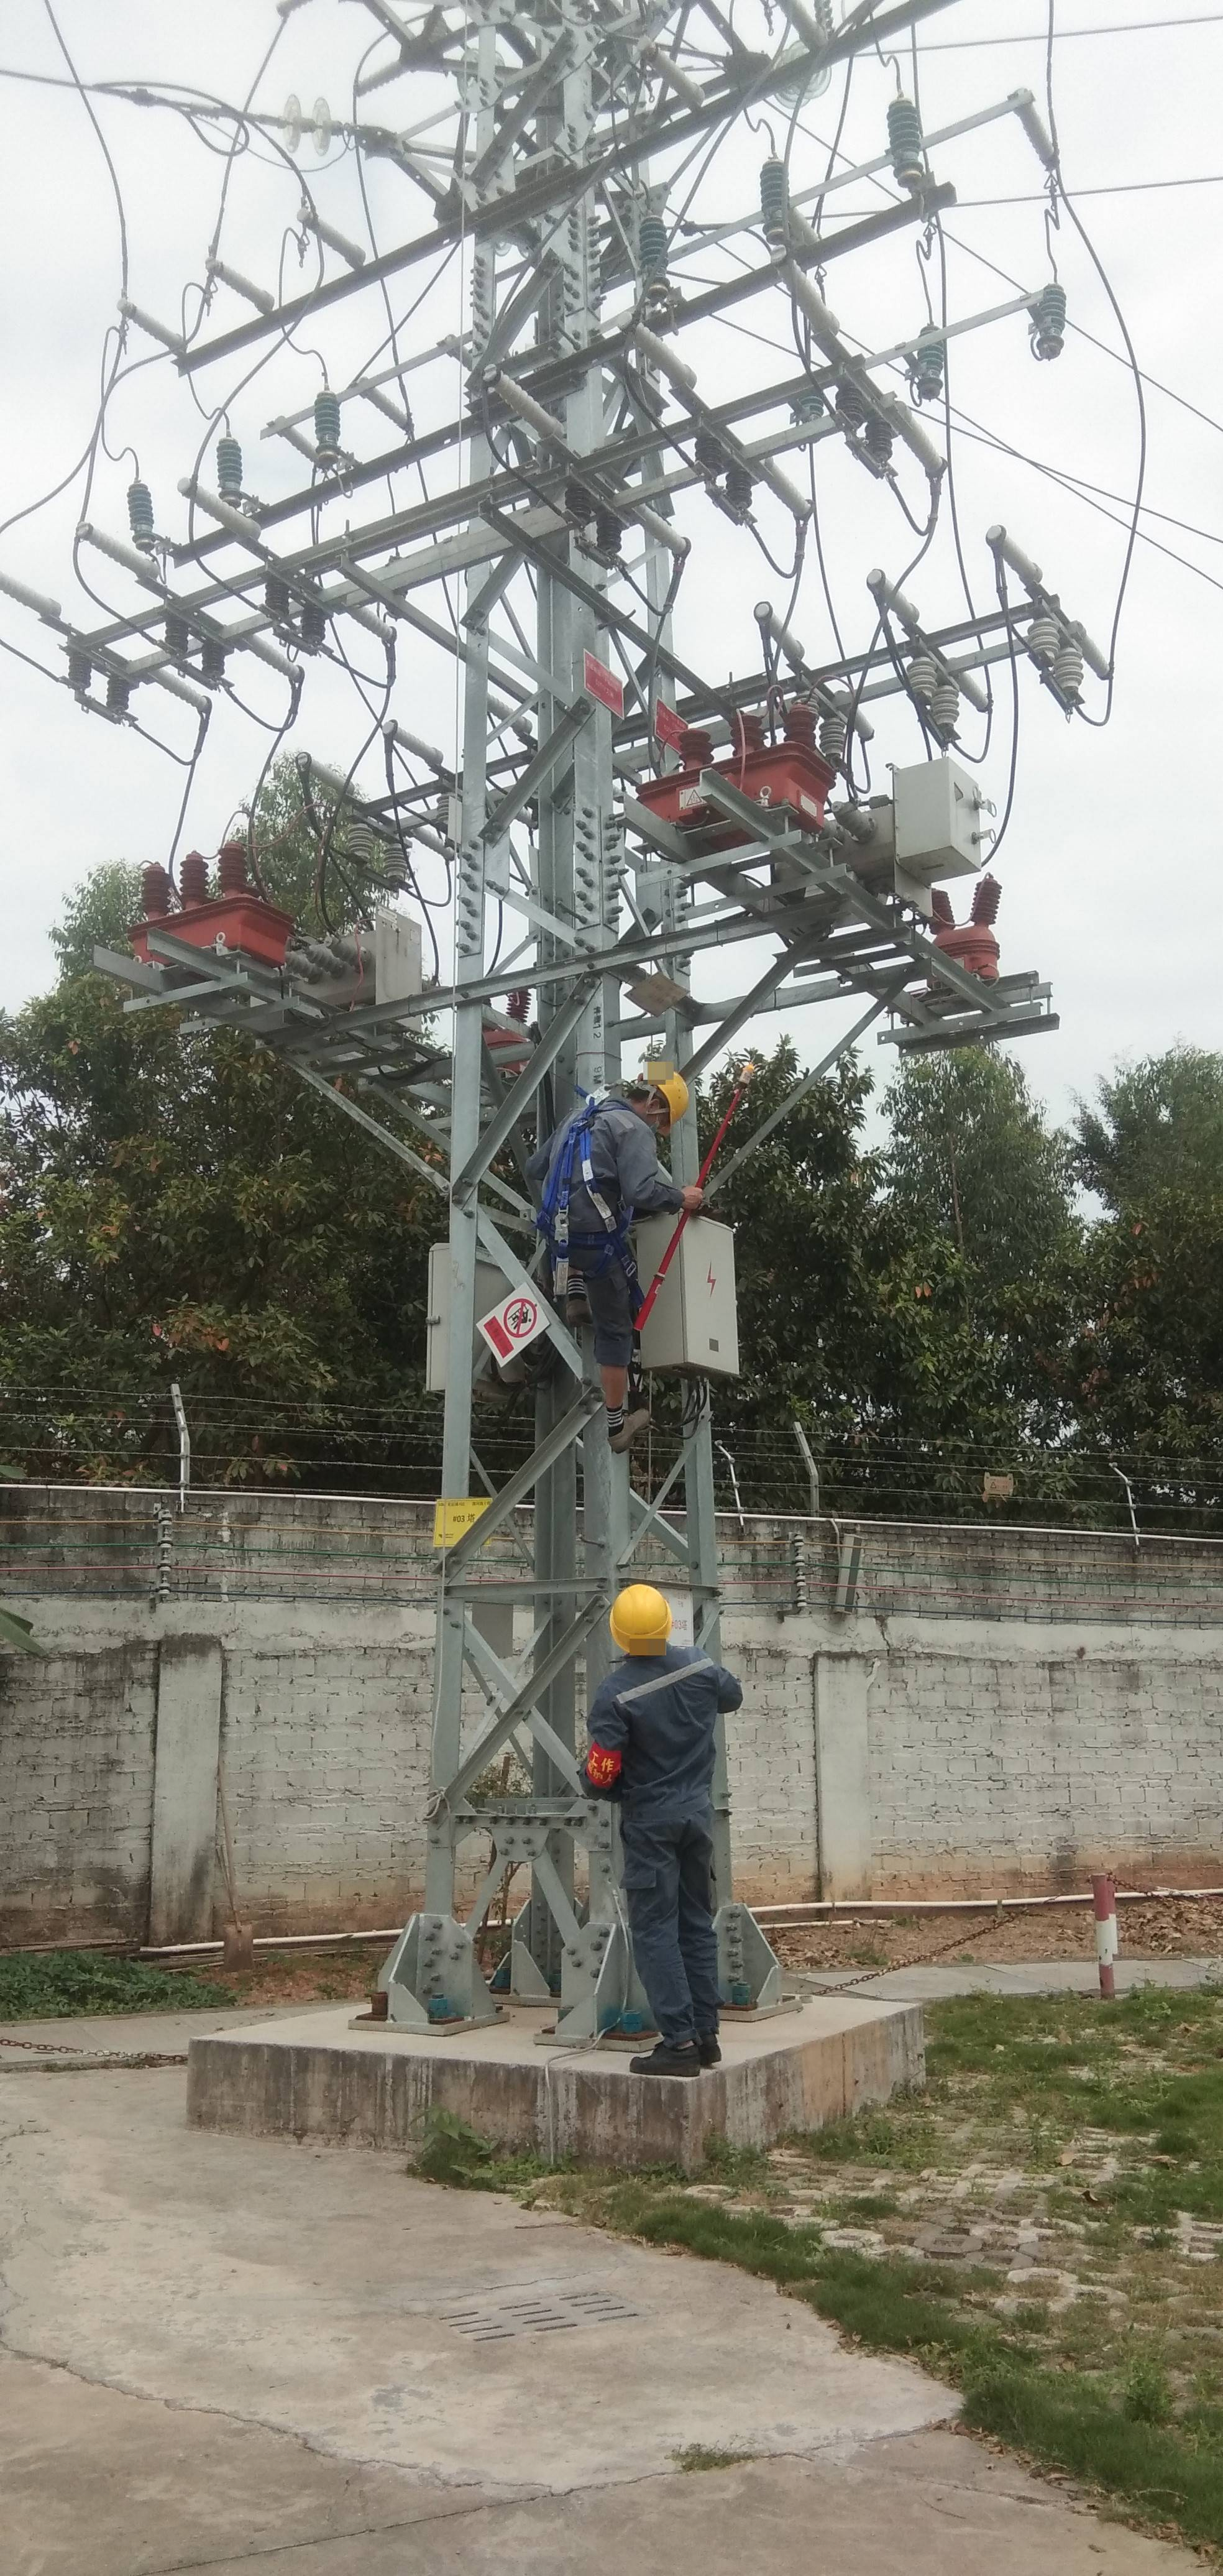downsuit: (624, 1835, 721, 2037), (553, 1240, 650, 1365)
upsuit: (599, 1666, 724, 1832), (542, 1102, 658, 1229)
wrongbottom: (583, 1344, 645, 1426)
